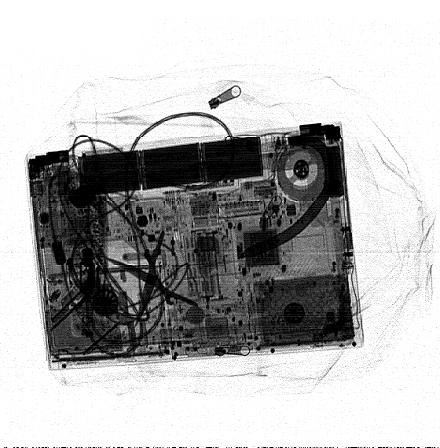Scissors: (99, 229, 201, 330)
